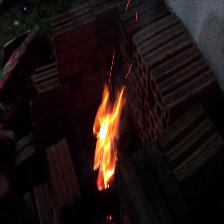fire_h: (93, 84, 125, 190)
fire_l: (109, 52, 114, 83), (125, 62, 133, 78), (126, 1, 129, 9), (135, 14, 138, 21), (106, 215, 111, 219)
